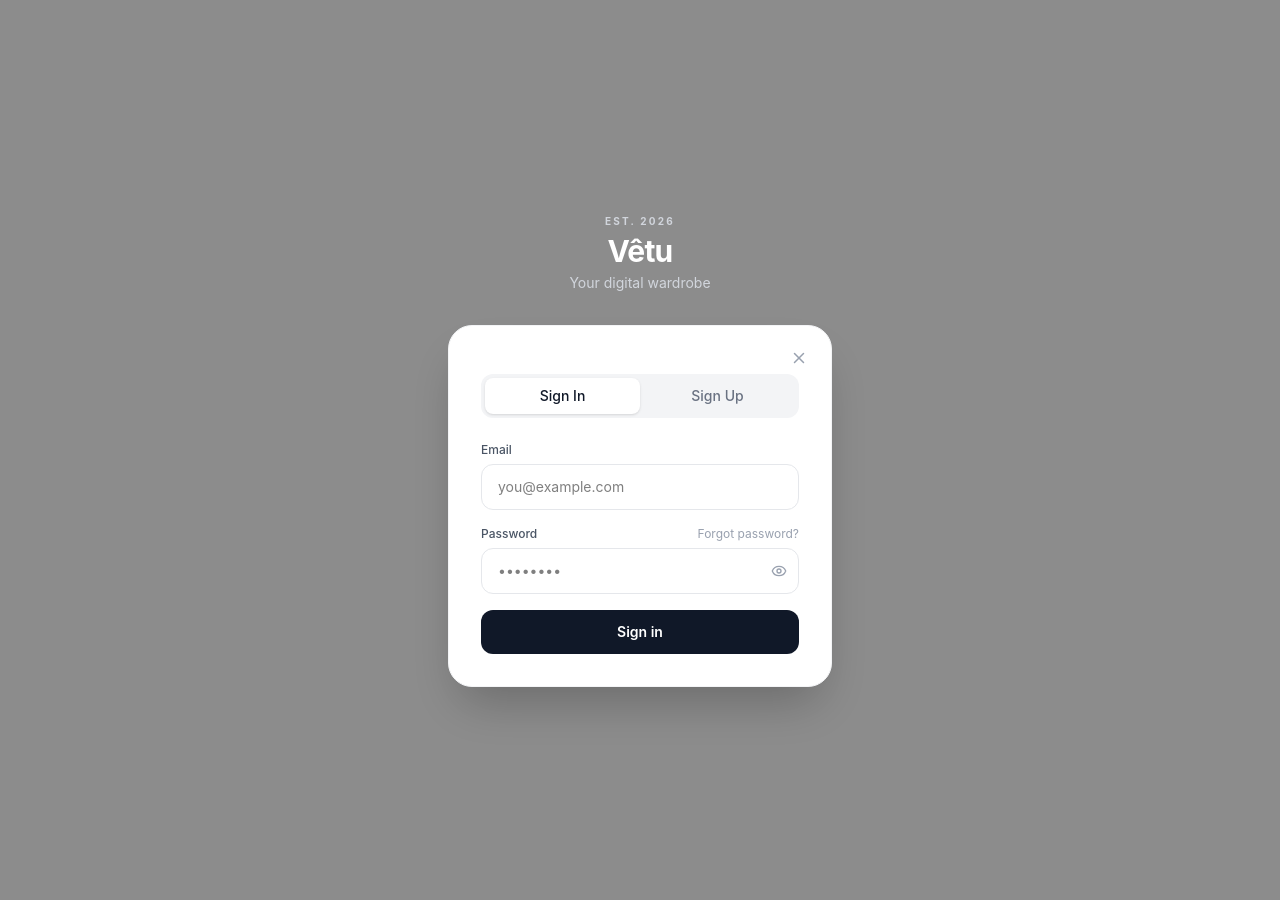
it: AuthModal — mode switching › shows only email after switching to forgot password
The image size is (1280, 900).
Click the button "Forgot password?". click: x=748, y=534
box: [698,526,799,542]
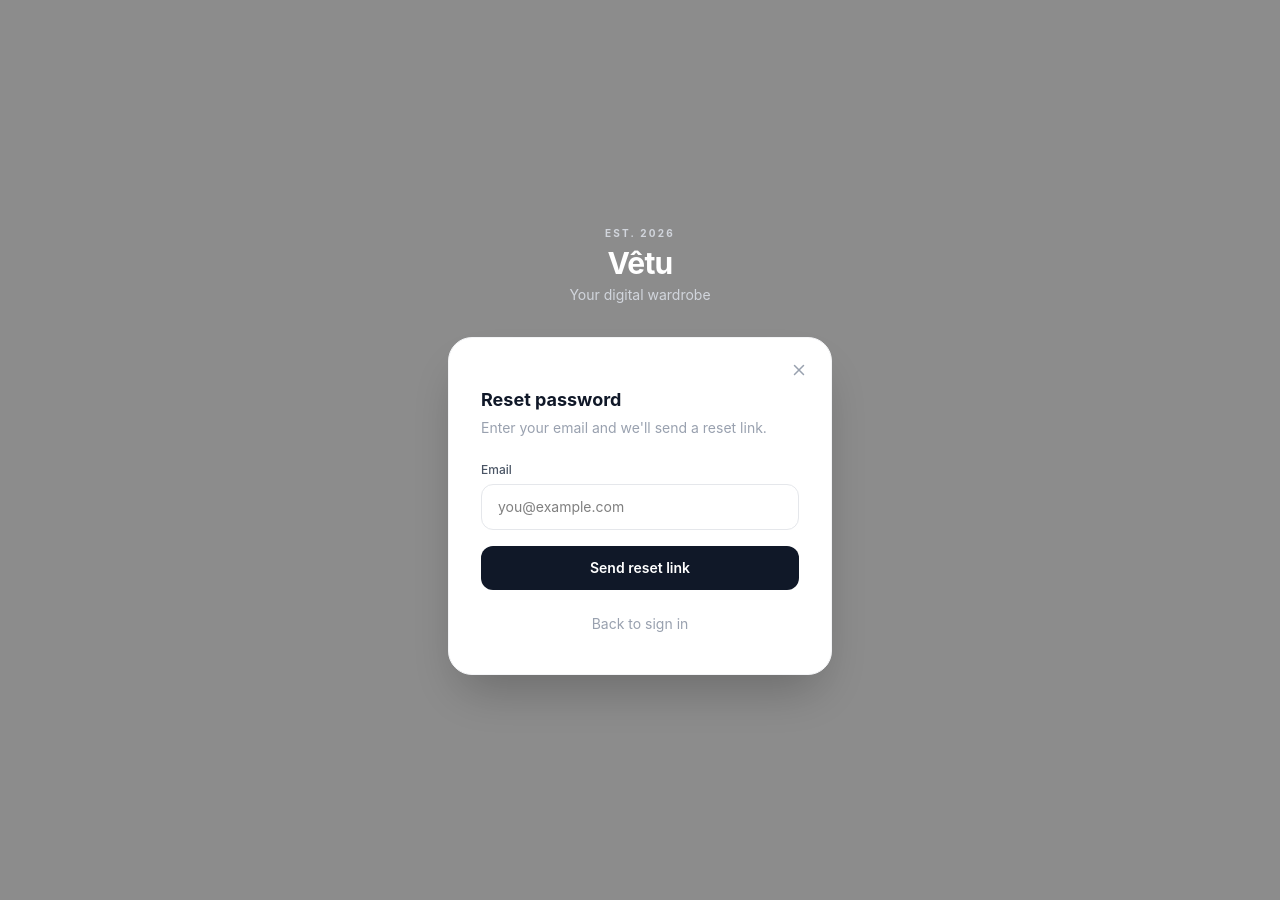
Expected: the field with placeholder "you@example.com" is shown, [481,484,799,530]
Expected: the password field with placeholder "••••••••" is gone
